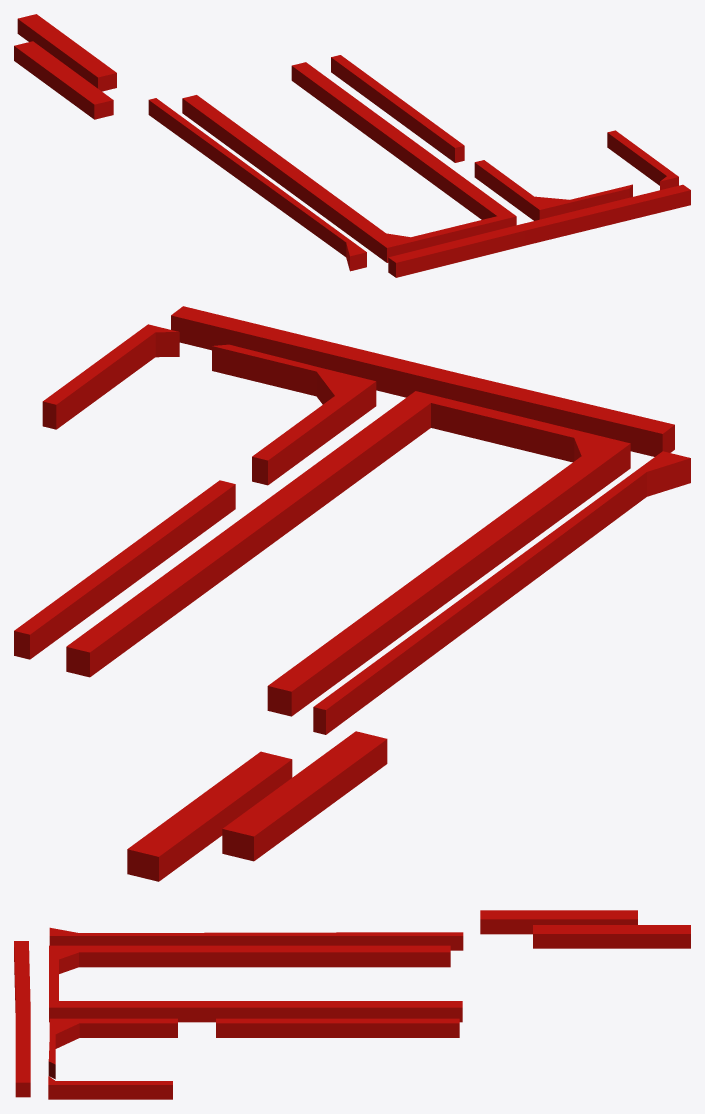
File: collisionCarAI.obj
3 renders of one model, top to bottom at view 1: azimuth 30°, elevation 25°; view 2: azimuth 150°, elevation 25°; view 3: azimuth 270°, elevation 25°, orthographic. The views are drawn at different scales.
Parts seen in each view (by area): view 1: Cube.199_Cube.086; view 2: Cube.199_Cube.086; view 3: Cube.199_Cube.086.
Part boxes in pixels (left/top/right/bottom): Cube.199_Cube.086: left=14, top=14, right=690, bottom=277; Cube.199_Cube.086: left=14, top=306, right=690, bottom=881; Cube.199_Cube.086: left=14, top=910, right=690, bottom=1099.
Size of the model in its own units: 2147 by 86.63 by 3519.
